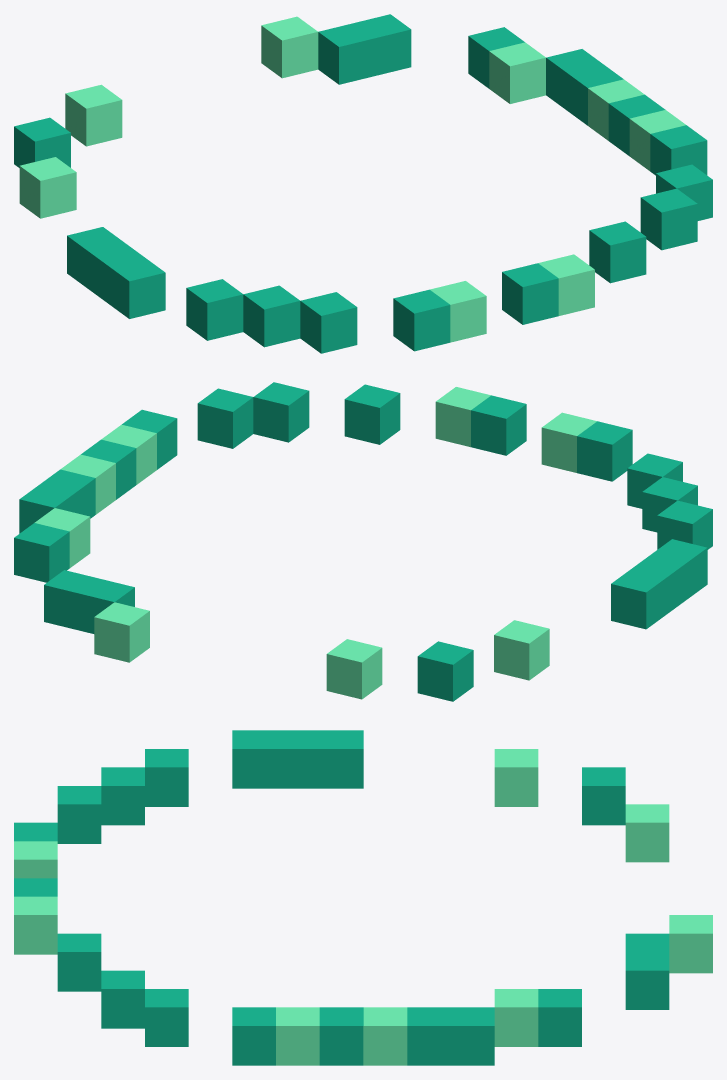
Rendered from anelsaturno-verde1.obj.
3 views of the same model, one above another, from view 1: azimuth 30°, elevation 25°; view 2: azimuth 150°, elevation 25°; view 3: azimuth 270°, elevation 25° (orthographic). The views are drawn at different scales.
Bounding box in the file's own units: 1.6 × 0.1 × 1.6.
1 material, 1 textured.
